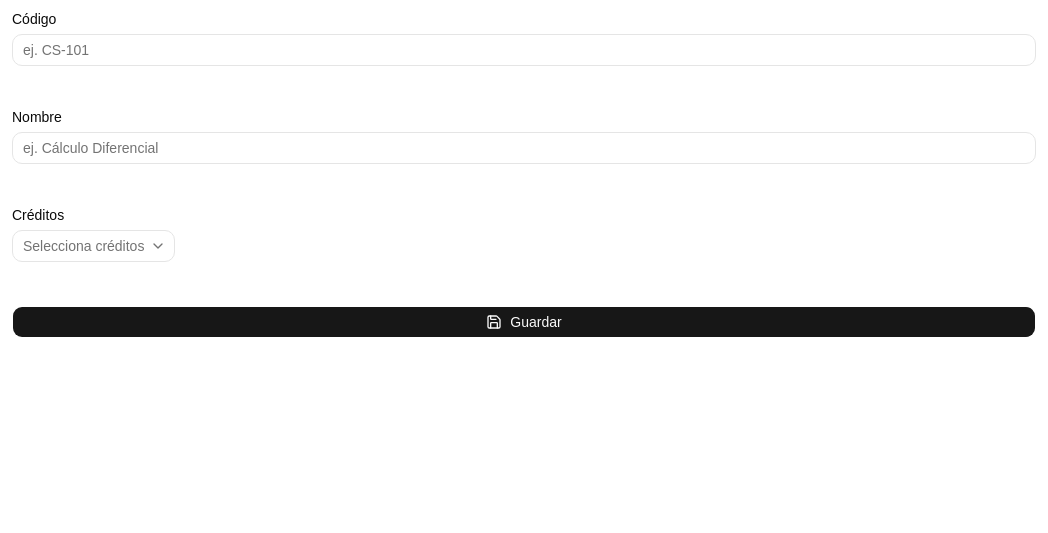
Scenario: CourseForm › setError path for duplicate code renders inline error
In the field labelled "Código": (524, 50) x1=12 y1=34 x2=1036 y2=66, type "DUP"
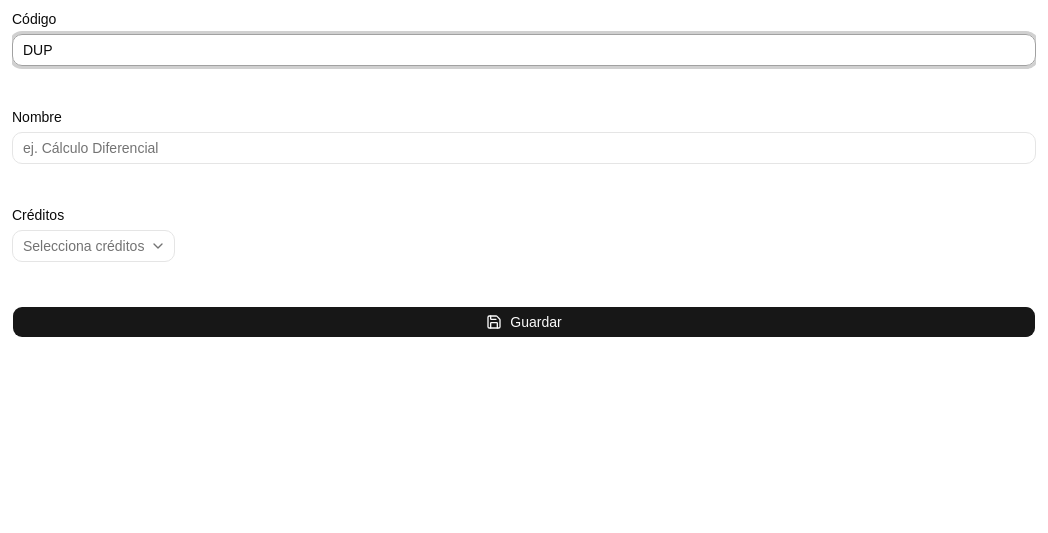
In the field labelled "Nombre": (524, 148) x1=12 y1=132 x2=1036 y2=164, type "Duplicado"
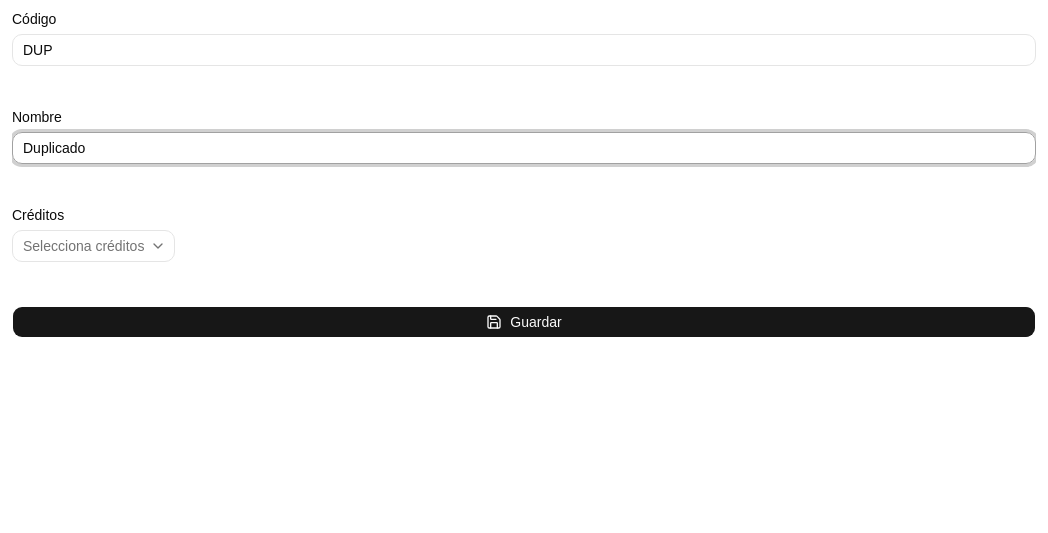
Click the dropdown: (94, 246) x1=12 y1=230 x2=175 y2=262
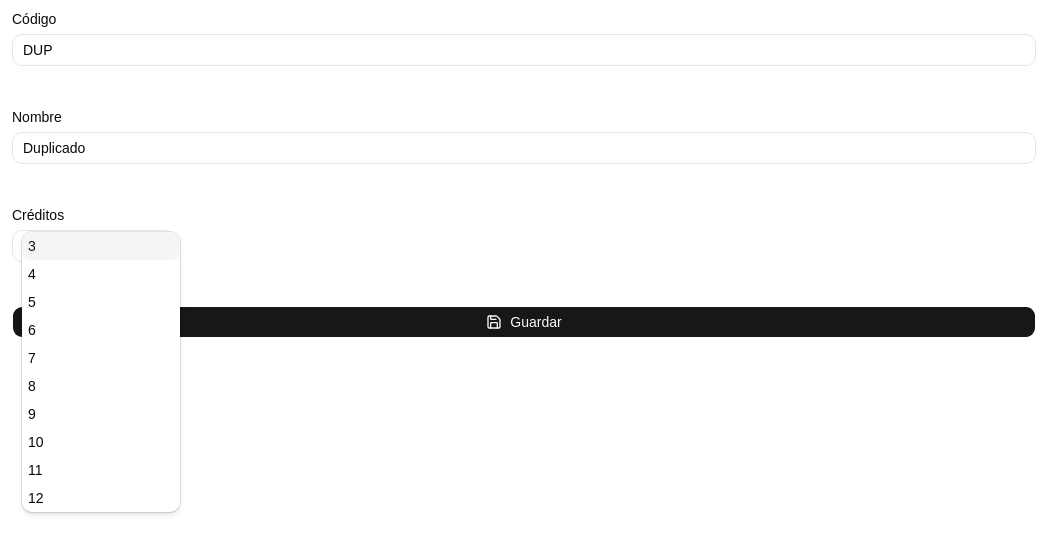
Click the option "6": (32, 330) x1=28 y1=322 x2=36 y2=338
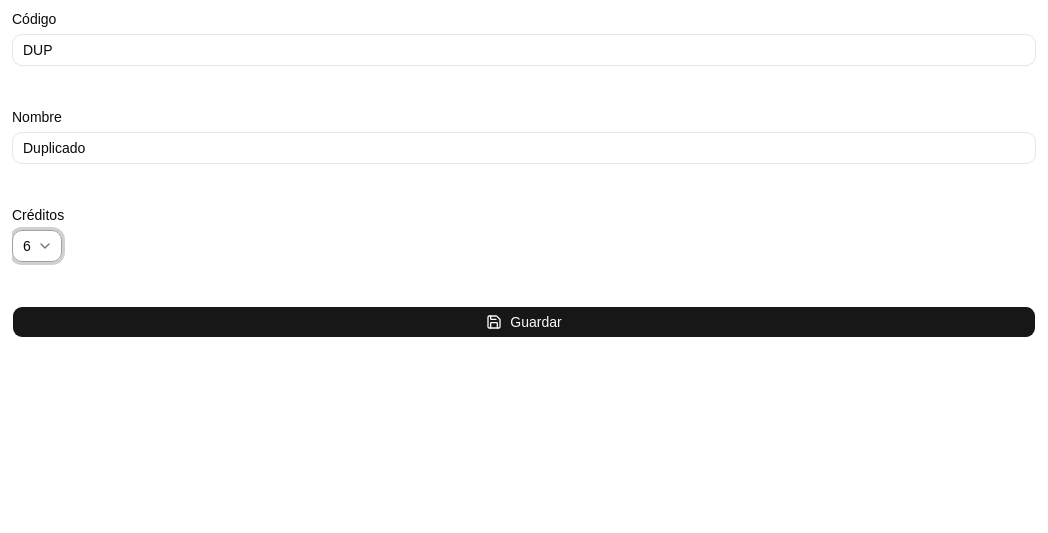
Click the button "Guardar": (524, 322) x1=12 y1=306 x2=1036 y2=338
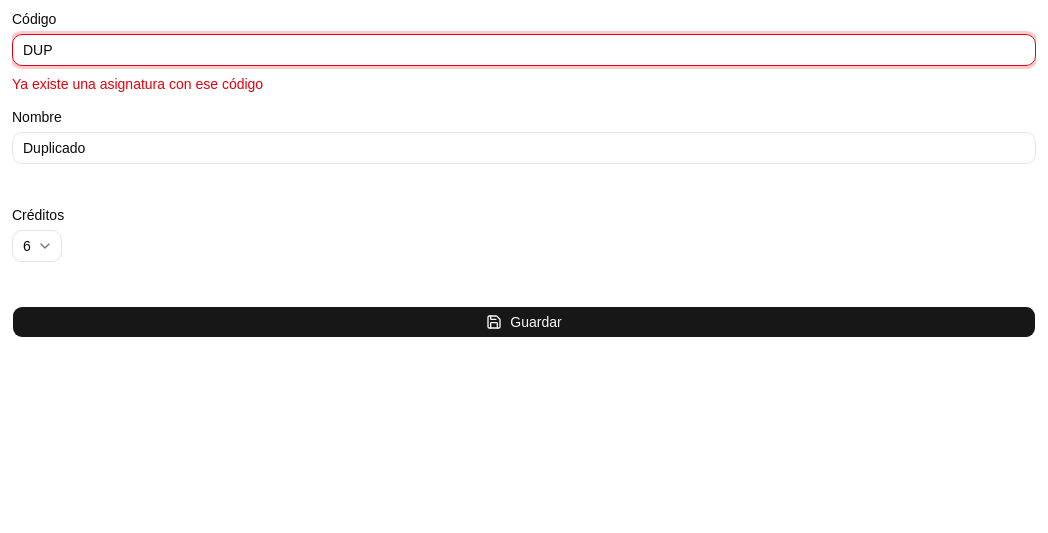
Result: the text "Ya existe una asignatura con ese código" is shown at x1=12 y1=76 x2=263 y2=92
